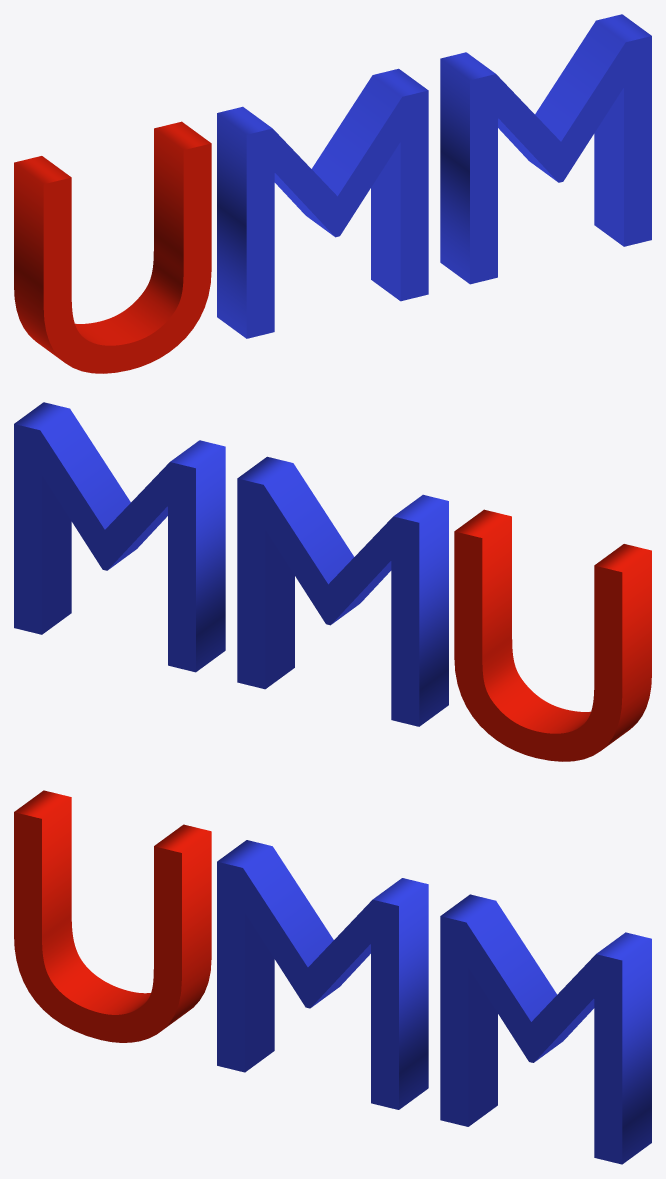
Rendered from MMU.glb.
The picture shows the model from 3 angles, top to bottom: view 1: azimuth 30°, elevation 25°; view 2: azimuth 150°, elevation 25°; view 3: azimuth 330°, elevation 25°; orthographic projection.
Parts seen in each view (by area): view 1: Text; view 2: Text; view 3: Text.
Boxes of the visible parts, left/top/right/bottom form: Text: left=14, top=14, right=651, bottom=373; Text: left=14, top=402, right=651, bottom=761; Text: left=14, top=790, right=651, bottom=1164.
Size of the model in its own units: 2.13 by 0.691 by 0.18.
